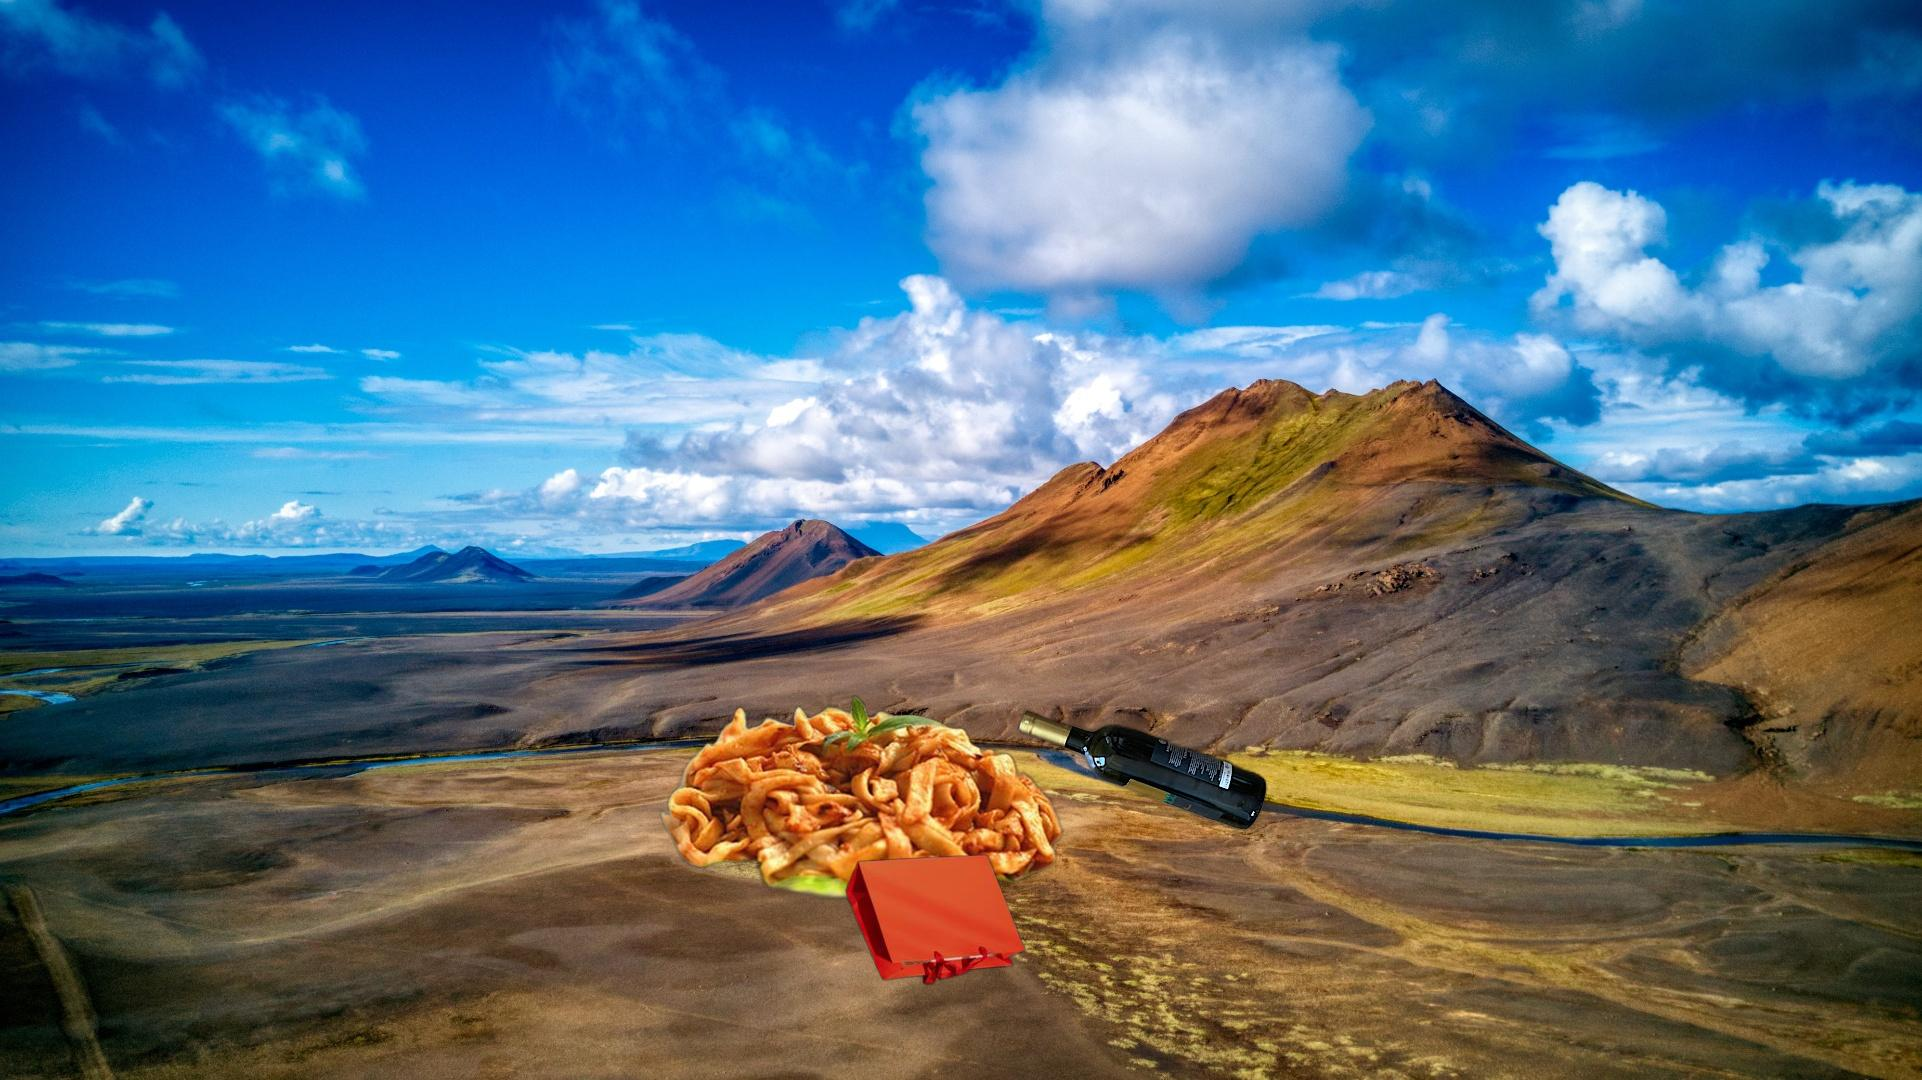biological: (656, 693, 1069, 900)
glass: (1014, 705, 1271, 836)
paper-bag: (844, 852, 1028, 988)
plastic-bottles: (1424, 838, 1653, 1080)
